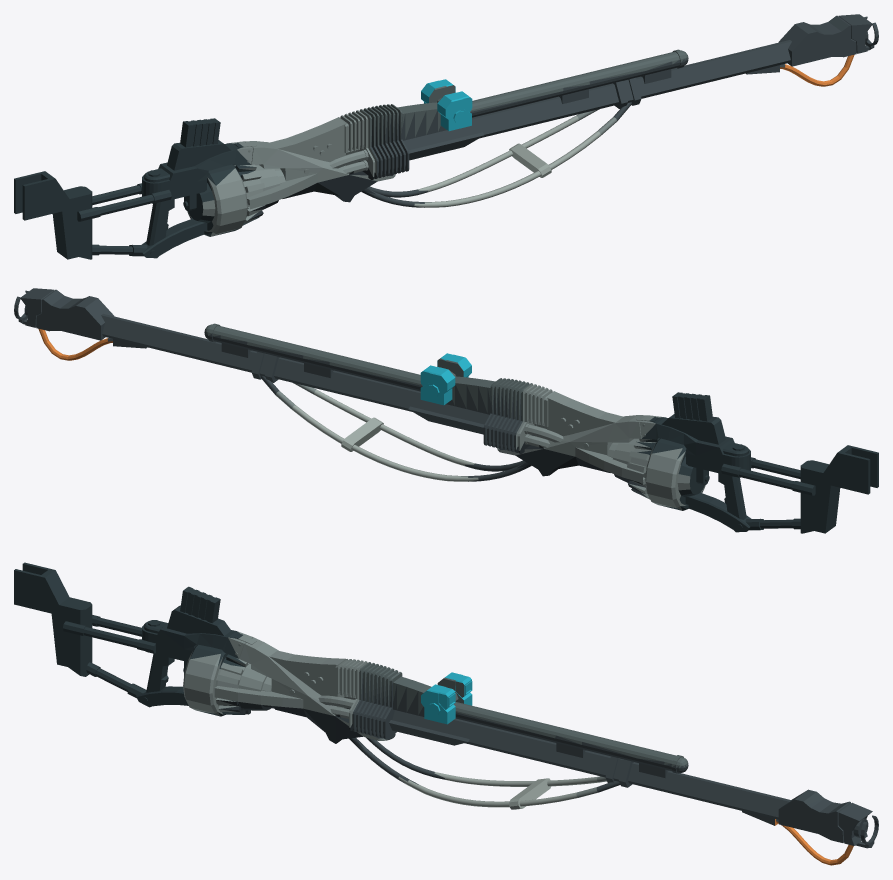
Rendered from Positron_e+_artiliary.obj.
3 views of the same model, one above another, from view 1: azimuth 30°, elevation 25°; view 2: azimuth 150°, elevation 25°; view 3: azimuth 330°, elevation 25° (orthographic).
Visible parts, largest first — view 1: Positrone__artiliary; view 2: Positrone__artiliary; view 3: Positrone__artiliary.
Part boxes in pixels (x1,y1,x2,y2): Positrone__artiliary: (14, 14, 878, 259); Positrone__artiliary: (14, 288, 878, 533); Positrone__artiliary: (14, 562, 878, 865).
Size of the model in its own units: 0.966 by 0.1491 by 0.0737.
Materials: 1 (1 with a texture image).
